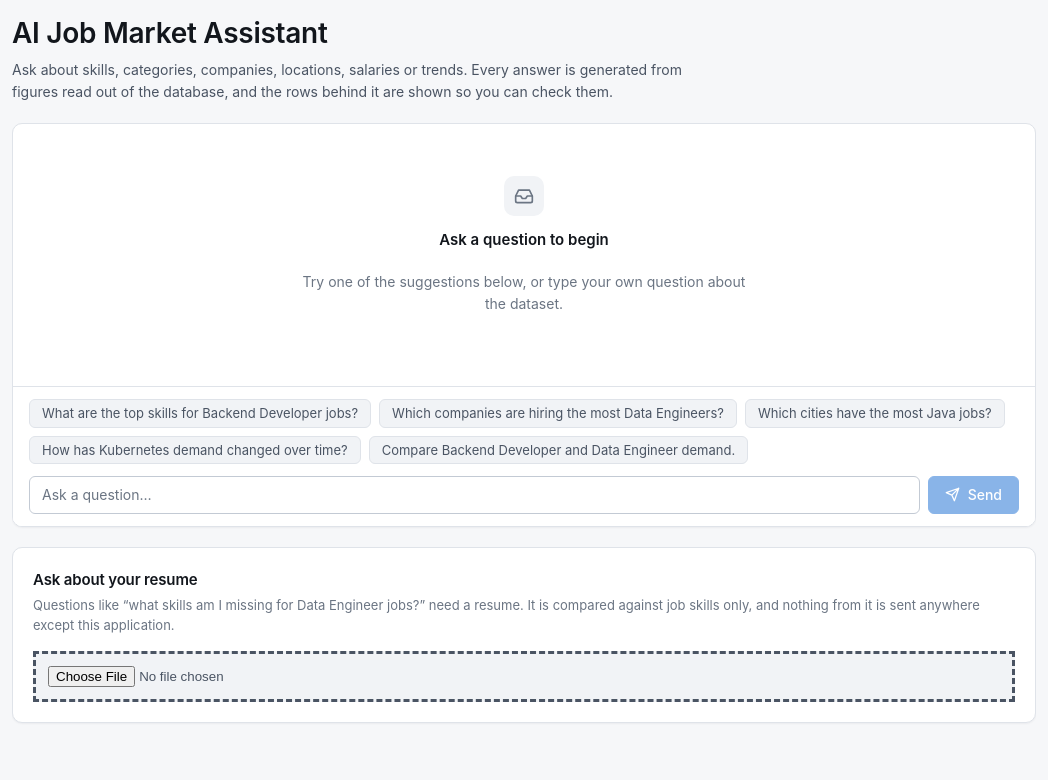
Scenario: AiAssistant › shows an error when the request fails, without losing the question
In the field named "Your question": (474, 495) [29, 476, 920, 514], type "top skills"
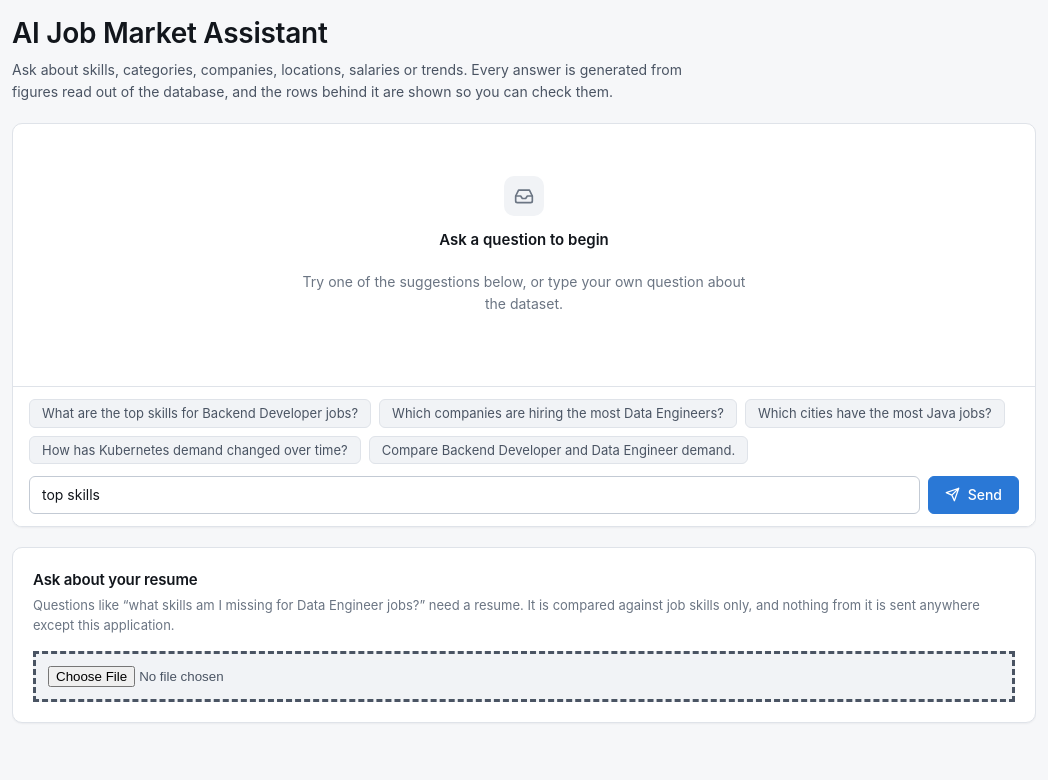
Click the button "Send": (973, 495) [928, 476, 1019, 514]
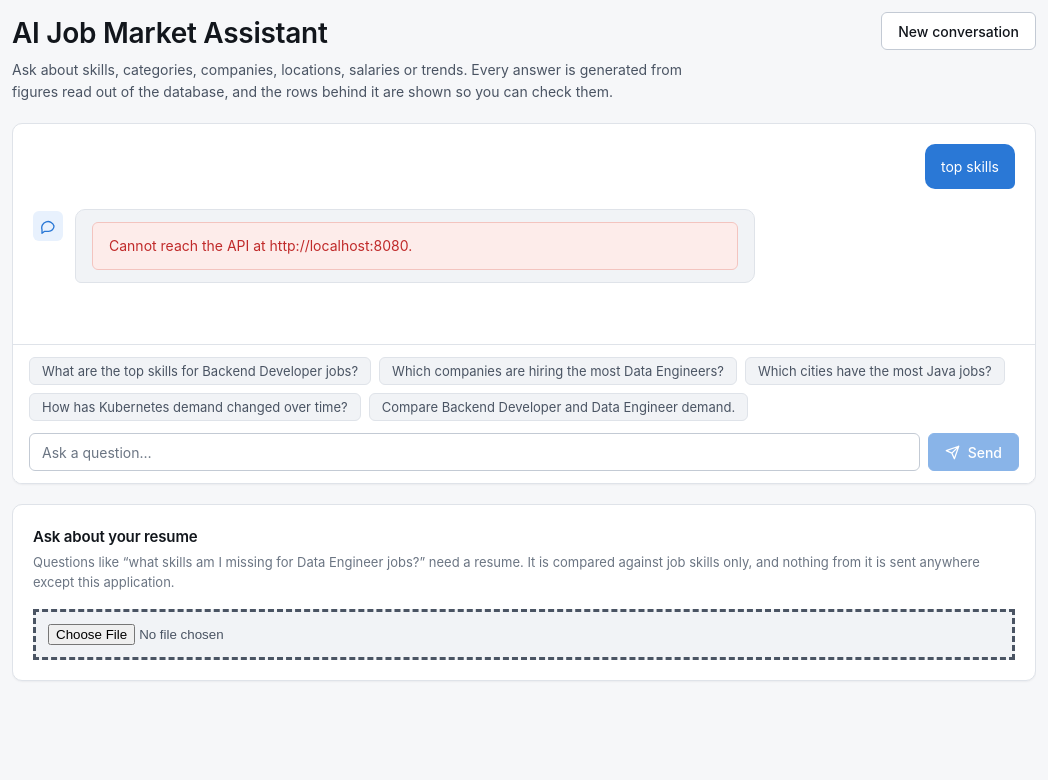
Expected: the message shows "Cannot reach the API", [109, 238, 412, 254]
Expected: the text "top skills" is shown, [925, 144, 1015, 190]
